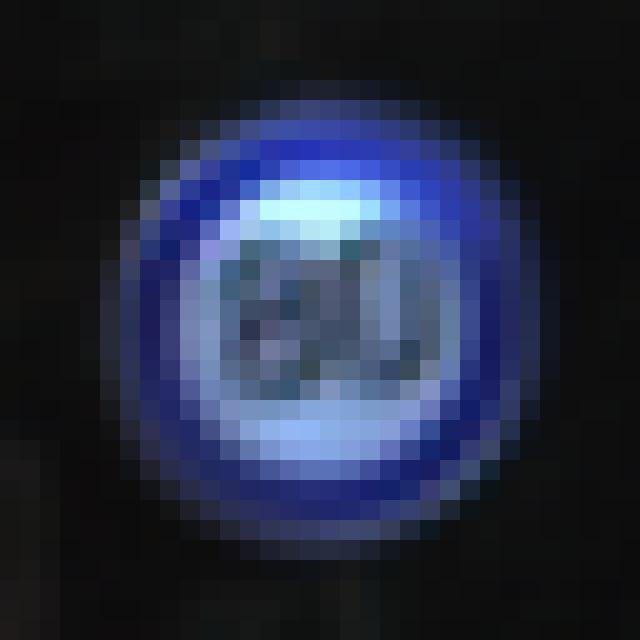SPEED-LIMIT-80: (113, 105, 532, 555)
